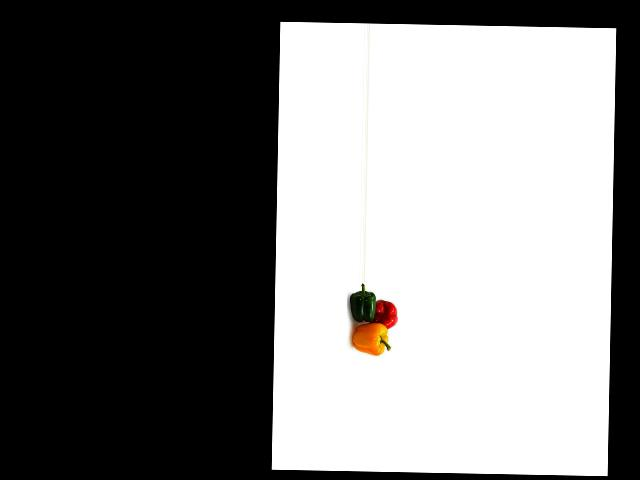bell_pepper: (349, 286, 379, 329)
